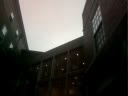window: (113, 44, 128, 66), (77, 54, 88, 81), (58, 58, 67, 83)
